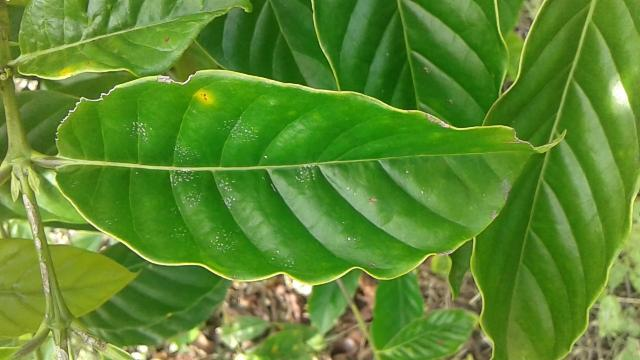rust_level_1: (52, 66, 566, 288)
